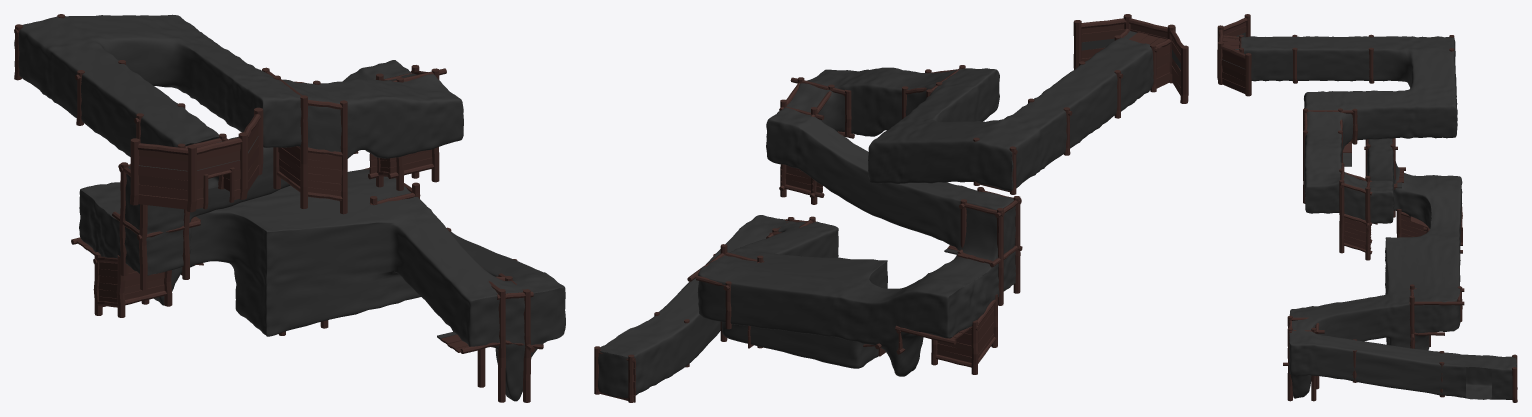
File: env_cuevaTutorial.fbx
3 views of the same model, side by side, from view 1: azimuth 30°, elevation 25°; view 2: azimuth 150°, elevation 25°; view 3: azimuth 270°, elevation 25° (orthographic). The views are drawn at different scales.
Parts seen in each view (by area): view 1: env_cave-natural2; view 2: env_cave-natural2; view 3: env_cave-natural2.
Part boxes in pixels (<box>): env_cave-natural2: <box>14,14,565,402</box>; env_cave-natural2: <box>594,14,1188,402</box>; env_cave-natural2: <box>1217,14,1517,402</box>.
Bounding box in the file's own units: 6347 × 4887 × 5289.
